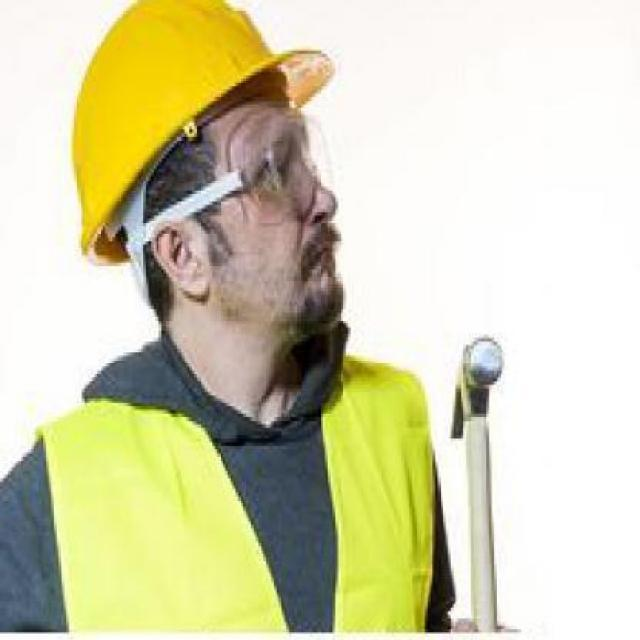Goggles: (172, 99, 346, 228)
